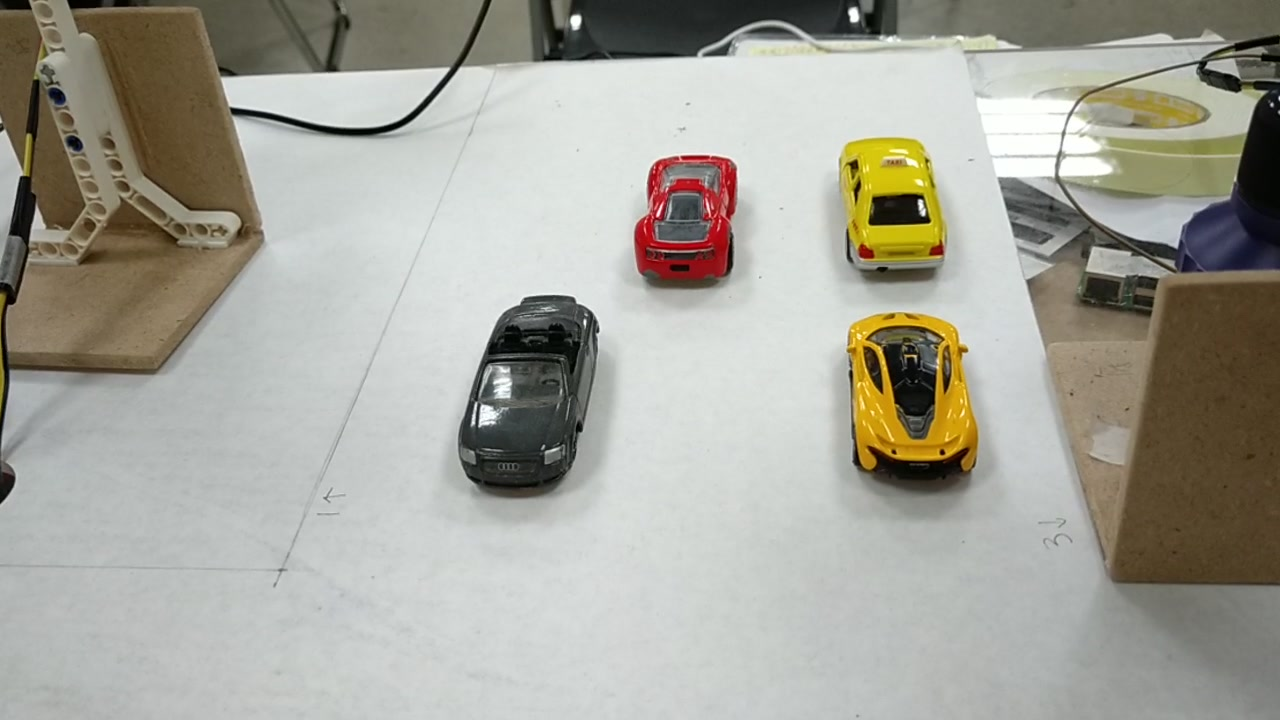car: (456, 300, 599, 483), (848, 314, 987, 479), (633, 152, 747, 280), (846, 133, 940, 266)
